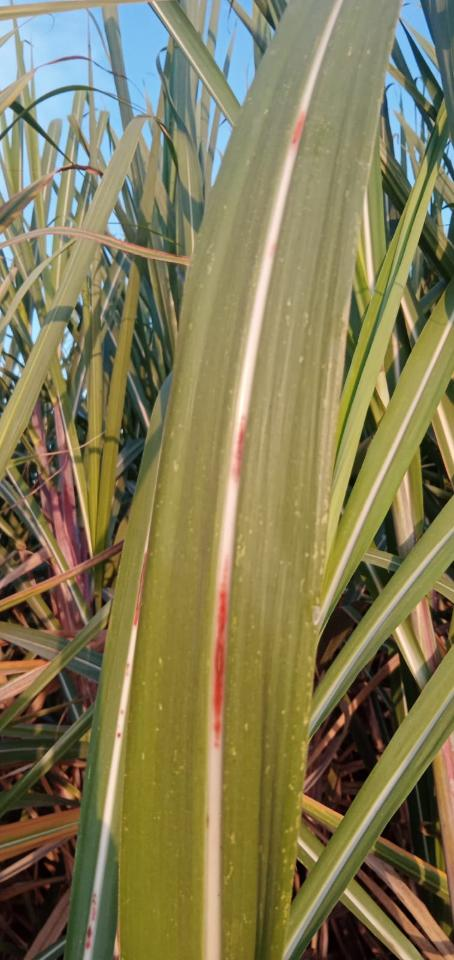RedRot: (215, 553, 229, 751), (133, 548, 148, 627), (233, 413, 249, 487), (85, 891, 99, 952), (290, 110, 308, 147), (115, 707, 126, 741), (125, 659, 130, 679)
